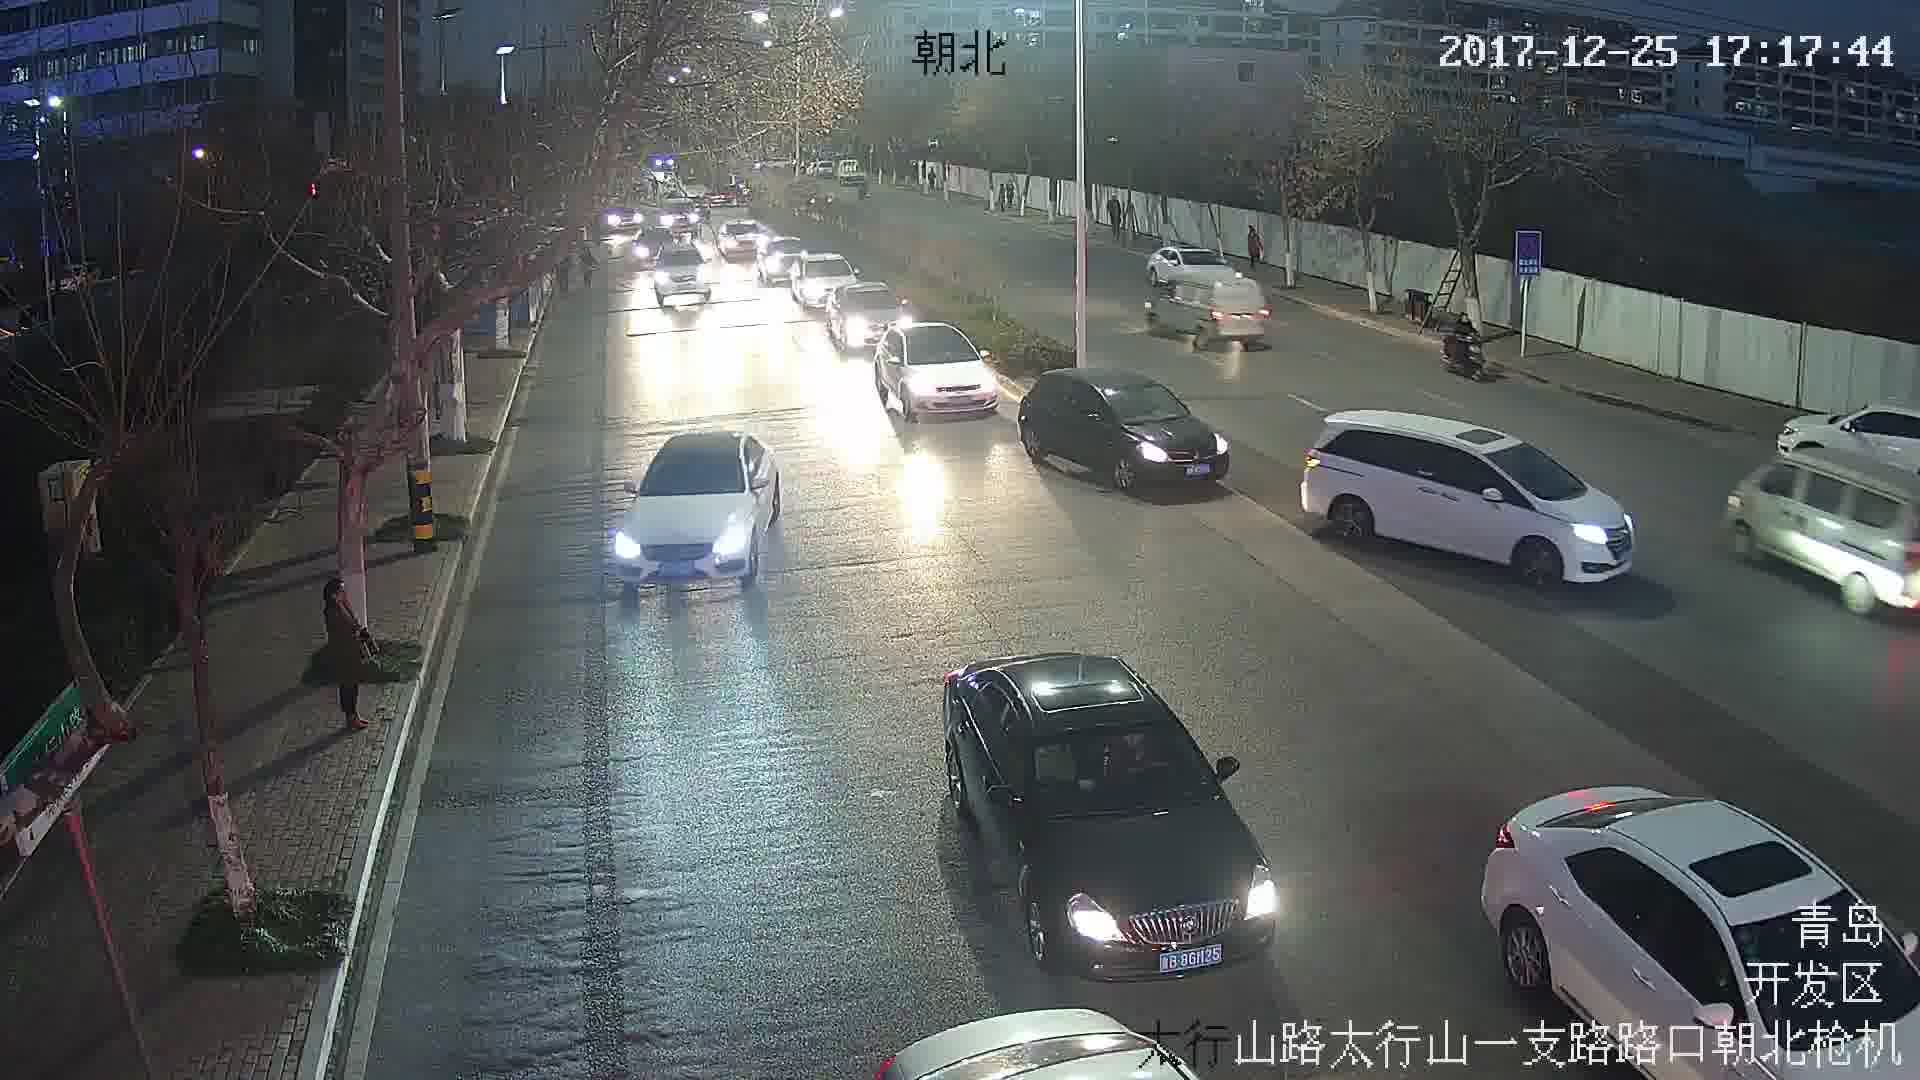car: (927, 659, 1277, 982), (1299, 406, 1630, 595), (1009, 371, 1232, 496), (606, 434, 782, 591), (874, 325, 999, 421), (1156, 271, 1270, 353), (828, 289, 906, 350), (657, 242, 723, 312), (793, 256, 860, 306)
person: (316, 580, 374, 734), (1448, 317, 1487, 367), (1239, 225, 1263, 266)
